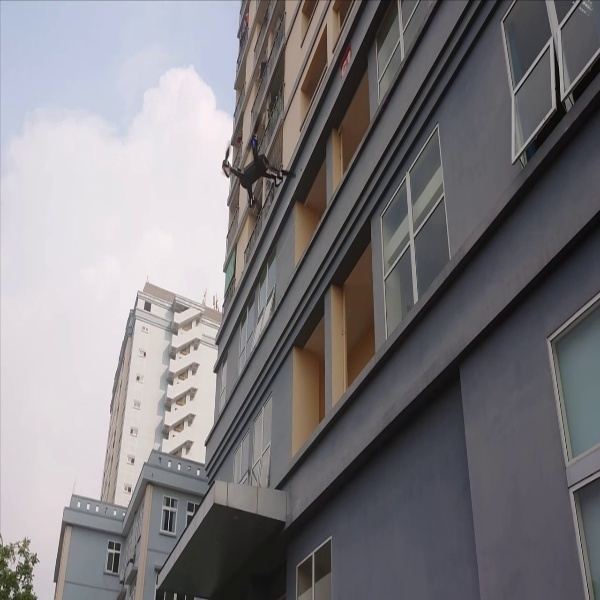drone: (219, 108, 297, 215)
